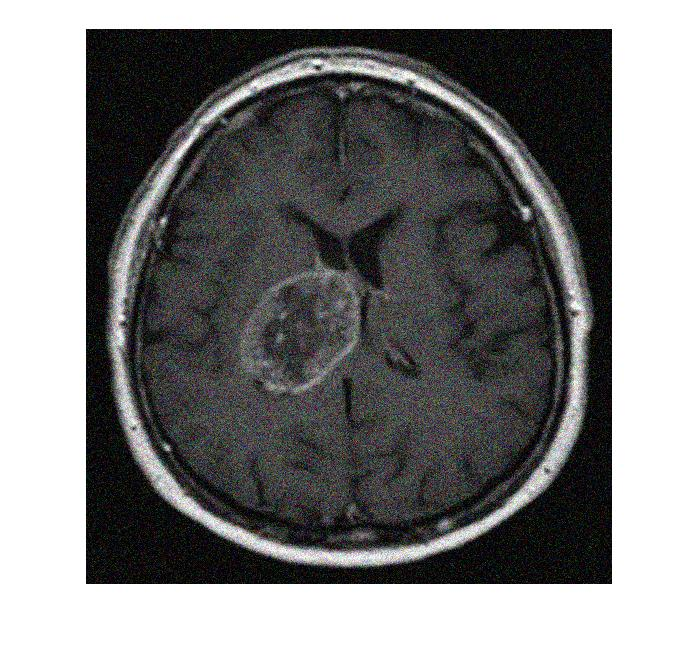Brain_Cancer: (239, 266, 362, 393)
